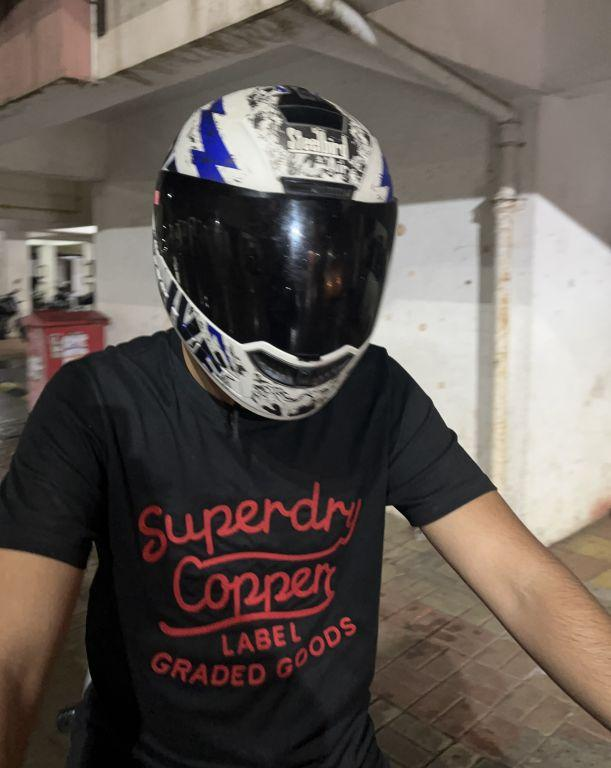helmet: (150, 75, 402, 437)
